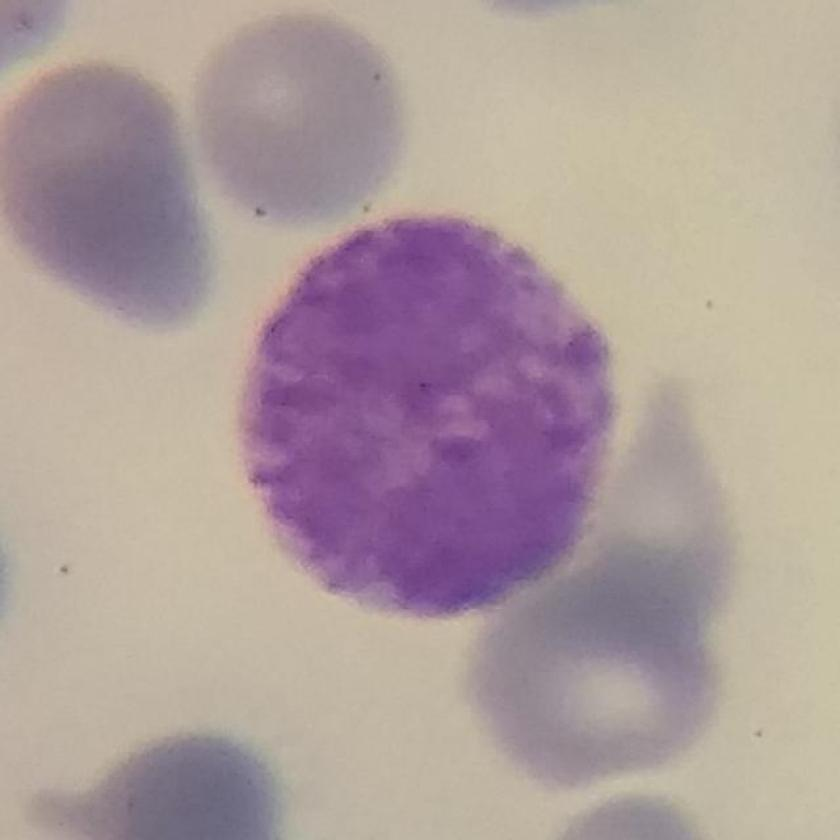basophil: (236, 184, 631, 633)
